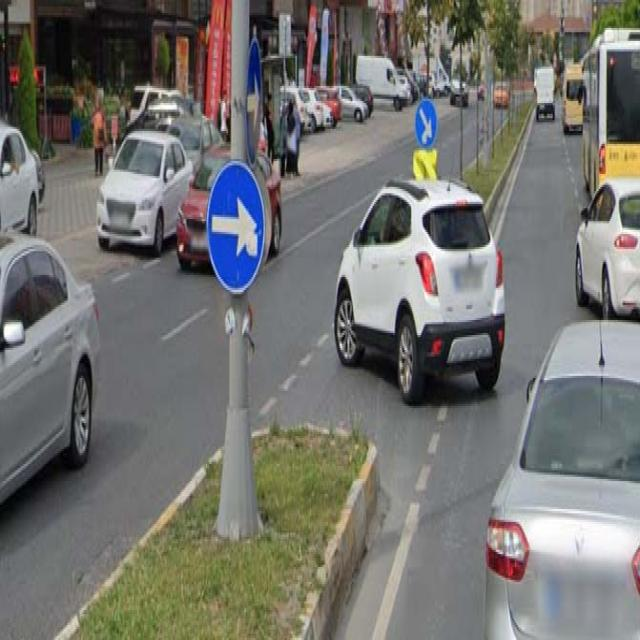sag: (208, 161, 266, 294), (246, 37, 263, 163)
